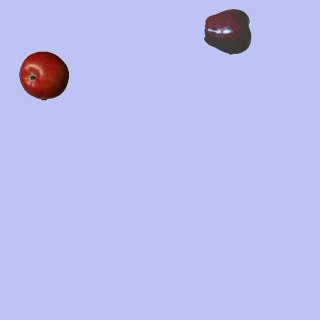Apple Braeburn: (18, 50, 68, 100)
Apple Red Delicious: (203, 6, 253, 56)
